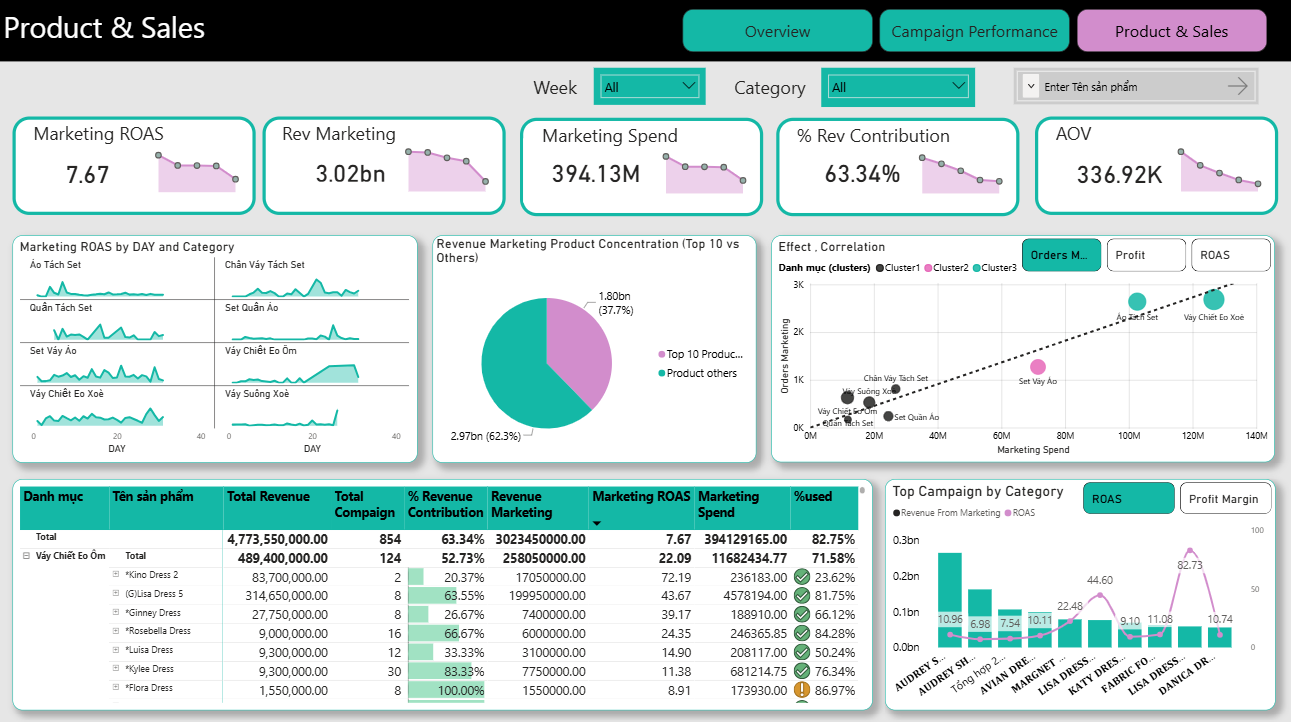

What the dashboard file says about the page in this screenshot:
{"tool":"powerbi","page":{"name":"Product & Sales ","canvas":[1920,1080],"ordinal":2},"visuals":[{"type":"textbox","box":[0,0,1920,93],"z":0},{"type":"textbox","box":[787.3,107.1,111.6,43.3],"z":0,"group":"g9"},{"type":"textbox","box":[1087.4,107.2,157.2,44.4],"z":0,"group":"g8"},{"type":"shape","box":[391.5,175.6,361.6,146.6],"z":0,"group":"g2"},{"type":"shape","box":[1539.1,175.6,361.6,146.6],"z":0,"group":"g5"},{"type":"group","id":"g1","title":"Group 1","box":[18.9,176.2,361.6,146.6],"z":0,"group":"g10"},{"type":"shape","box":[18.9,176.2,361.6,146.6],"z":0,"group":"g1"},{"type":"shape","box":[773,177.5,361.6,146.6],"z":0,"group":"g3"},{"type":"shape","box":[1153.9,177.5,361.6,146.6],"z":0,"group":"g4"},{"type":"scatterChart","title":"Effect , Correlation","fields":{"Y":["Measure.Orders From Marketing"],"Category":["danh sach san pham.Danh mục"],"Size":["Measure.Total Revenue"],"X":["Measure.Marketing Spend"],"Series":["danh sach san pham.Danh mục (clusters)"]},"box":[1147.3,351.6,749.2,337.9],"z":0,"group":"g6"},{"type":"lineStackedColumnComboChart","title":"Top Campaign by Category","fields":{"Y2":["Measure.Marketing ROAS"],"Y":["Measure.Revenue From Marketing"],"Category":["mkt_camp_cost.Tên chiến dịch"]},"box":[1315.6,713,580.6,343.8],"z":0,"group":"g7"},{"type":"textbox","box":[0,7,445.2,78.8],"z":1000},{"type":"slicer","fields":{"Values":["Dim_Date.Week"]},"box":[881.8,101.9,166.4,55.4],"z":1000,"group":"g9"},{"type":"slicer","fields":{"Values":["danh sach san pham.Danh mục"]},"box":[1221.8,101.9,229.1,58.6],"z":1000,"group":"g8"},{"type":"group","id":"g2","title":"Group 1","box":[391.5,175.6,361.4,147.3],"z":1000,"group":"g10"},{"type":"cardVisual","fields":{"Data":["Measure.Marketing ROAS"]},"box":[50.8,198.7,208.5,117.1],"z":1000,"group":"g1"},{"type":"cardVisual","fields":{"Data":["Measure.% Revenue Contribution"]},"box":[1177.3,199.3,220.4,113.3],"z":1000,"group":"g4"},{"type":"cardVisual","fields":{"Data":["Measure.AOV"]},"box":[1554.1,199.3,230.3,115.2],"z":1000,"group":"g5"},{"type":"cardVisual","fields":{"Data":["Measure.Marketing Spend"]},"box":[772.7,204.3,240.2,105.7],"z":1000,"group":"g3"},{"type":"cardVisual","fields":{"Data":["Measure.Revenue From Marketing"]},"box":[422.6,204.7,209.9,102.4],"z":1000,"group":"g2"},{"type":"advancedSlicerVisual","fields":{"Values":["Parameter_p33.Parameter_p33"]},"box":[1515.9,351.1,380,59.4],"z":1000,"group":"g6"},{"type":"advancedSlicerVisual","fields":{"Values":["Parameter_p3.Parameter_p3"]},"box":[1606.2,713.3,290.3,57.9],"z":1000,"group":"g7"},{"type":"group","id":"g3","title":"Group 1","box":[772.7,177.5,361.4,147.3],"z":2000,"group":"g10"},{"type":"lineChart","fields":{"Category":["Dim_Date.Week"],"Y":["Measure.Revenue From Marketing"]},"box":[591.8,209.2,147.6,84.3],"z":2000,"group":"g2"},{"type":"lineChart","fields":{"Category":["Dim_Date.Week"],"Y":["Measure.AOV"]},"box":[1739.4,209.2,147.6,84.3],"z":2000,"group":"g5"},{"type":"lineChart","fields":{"Category":["Dim_Date.Week"],"Y":["Measure.Marketing ROAS"]},"box":[219.2,209.8,147.6,84.3],"z":2000,"group":"g1"},{"type":"lineChart","fields":{"Category":["Dim_Date.Week"],"Y":["Measure.Marketing ROAS"]},"box":[973.3,211.1,147.6,84.3],"z":2000,"group":"g3"},{"type":"lineChart","fields":{"Category":["Dim_Date.Week"],"Y":["Measure.% Revenue Contribution"]},"box":[1354.2,211.1,147.6,84.3],"z":2000,"group":"g4"},{"type":"pieChart","title":"Revenue Marketing Product  Concentration (Top 10 vs Others)","fields":{"Y":["Measure.Top 10 Product Revenue","Measure.Product others"]},"box":[643.1,351.3,481.4,338.3],"z":2000},{"type":"textbox","box":[415,177.3,237.9,54.3],"z":3000,"group":"g2"},{"type":"textbox","box":[1565.8,177.3,234.1,54.3],"z":3000,"group":"g5"},{"type":"group","id":"g4","title":"Group 1","box":[1153.9,177.5,361.4,147.3],"z":3000,"group":"g10"},{"type":"textbox","box":[45.6,177.9,234.1,54.3],"z":3000,"group":"g1"},{"type":"textbox","box":[1179.3,178.7,266.1,54.7],"z":3000,"group":"g4"},{"type":"textbox","box":[799.7,179.2,234.1,54.3],"z":3000,"group":"g3"},{"type":"lineChart","title":"Marketing ROAS by DAY and Category","fields":{"Category":["Dim_Date.DAY","Dim_Date.Week"],"Y":["Measure.Marketing ROAS"],"Rows":["danh sach san pham.Danh mục"]},"box":[18.6,351.3,602.2,338.3],"z":3000},{"type":"group","id":"g5","title":"Group 1","box":[1539.1,175.6,361.6,146.6],"z":4000,"group":"g10"},{"type":"group","id":"g6","title":"Scatter","box":[1147.3,351.1,749.2,338.4],"z":4000},{"type":"pivotTable","fields":{"Rows":["danh sach san pham.Danh mục","danh sach san pham.Tên sản phẩm","danh sach san pham.Thương hiệu"],"Values":["Measure.Total Revenue","Measure.Total Compaign","Measure.% Revenue Contribution","Measure.Revenue From Marketing","Measure.Marketing ROAS","Measure.Marketing Spend","Measure.%used"]},"box":[18.1,713,1279.4,343.8],"z":5000},{"type":"group","id":"g7","title":"Top Campaign","box":[1315.6,713,580.9,343.8],"z":6000},{"type":"pageNavigator","box":[1015.5,14.7,871.7,64.5],"z":7000},{"type":"group","id":"g8","title":"Category","box":[1087.4,101.9,364.4,56.6],"z":8000},{"type":"group","id":"g9","title":"Week","box":[787.3,101.9,260.5,56.6],"z":9000},{"type":"group","id":"g10","title":"Group 2","box":[18.9,175.6,1882.2,149.1],"z":10000},{"type":"textSlicer","fields":{"Values":["danh sach san pham.Tên sản phẩm"]},"box":[1506.5,101.9,364.4,54.7],"z":11000}]}

Visuals, with their boxes in screenshot pixels (x1, y1, x2, y2), scaled from the page's 1920x1080 canvas onto the 1291x722 screenshot:
textbox: (x1=0, y1=0, x2=1290, y2=62)
textbox: (x1=529, y1=72, x2=604, y2=101)
textbox: (x1=731, y1=72, x2=837, y2=101)
shape: (x1=263, y1=117, x2=506, y2=215)
shape: (x1=1035, y1=117, x2=1278, y2=215)
"Group 1" group: (x1=13, y1=118, x2=256, y2=216)
shape: (x1=13, y1=118, x2=256, y2=216)
shape: (x1=520, y1=119, x2=763, y2=217)
shape: (x1=776, y1=119, x2=1019, y2=217)
"Effect , Correlation" scatterChart: (x1=771, y1=235, x2=1275, y2=461)
"Top Campaign by Category" lineStackedColumnComboChart: (x1=885, y1=477, x2=1275, y2=706)
textbox: (x1=0, y1=5, x2=299, y2=57)
slicer - Dim_Date.Week: (x1=593, y1=68, x2=705, y2=105)
slicer - danh sach san pham.Danh mục: (x1=822, y1=68, x2=976, y2=107)
"Group 1" group: (x1=263, y1=117, x2=506, y2=216)
cardVisual - Measure.Marketing ROAS: (x1=34, y1=133, x2=174, y2=211)
cardVisual - Measure.% Revenue Contribution: (x1=792, y1=133, x2=940, y2=209)
cardVisual - Measure.AOV: (x1=1045, y1=133, x2=1200, y2=210)
cardVisual - Measure.Marketing Spend: (x1=520, y1=137, x2=681, y2=207)
cardVisual - Measure.Revenue From Marketing: (x1=284, y1=137, x2=425, y2=205)
advancedSlicerVisual - Parameter_p33.Parameter_p33: (x1=1019, y1=235, x2=1275, y2=274)
advancedSlicerVisual - Parameter_p3.Parameter_p3: (x1=1080, y1=477, x2=1275, y2=516)
"Group 1" group: (x1=520, y1=119, x2=763, y2=217)
lineChart - Dim_Date.Week x Measure.Revenue From Marketing: (x1=398, y1=140, x2=497, y2=196)
lineChart - Dim_Date.Week x Measure.AOV: (x1=1170, y1=140, x2=1269, y2=196)
lineChart - Dim_Date.Week x Measure.Marketing ROAS: (x1=147, y1=140, x2=247, y2=197)
lineChart - Dim_Date.Week x Measure.Marketing ROAS: (x1=654, y1=141, x2=754, y2=197)
lineChart - Dim_Date.Week x Measure.% Revenue Contribution: (x1=911, y1=141, x2=1010, y2=197)
"Revenue Marketing Product  Concentration (Top 10 vs Others)" pieChart: (x1=432, y1=235, x2=756, y2=461)
textbox: (x1=279, y1=119, x2=439, y2=155)
textbox: (x1=1053, y1=119, x2=1210, y2=155)
"Group 1" group: (x1=776, y1=119, x2=1019, y2=217)
textbox: (x1=31, y1=119, x2=188, y2=155)
textbox: (x1=793, y1=119, x2=972, y2=156)
textbox: (x1=538, y1=120, x2=695, y2=156)
"Marketing ROAS by DAY and Category" lineChart: (x1=13, y1=235, x2=417, y2=461)
"Group 1" group: (x1=1035, y1=117, x2=1278, y2=215)
"Scatter" group: (x1=771, y1=235, x2=1275, y2=461)
pivotTable - danh sach san pham.Danh mục x danh sach san pham.Tên sản phẩm: (x1=12, y1=477, x2=872, y2=706)
"Top Campaign" group: (x1=885, y1=477, x2=1275, y2=706)
pageNavigator: (x1=683, y1=10, x2=1269, y2=53)
"Category" group: (x1=731, y1=68, x2=976, y2=106)
"Week" group: (x1=529, y1=68, x2=705, y2=106)
"Group 2" group: (x1=13, y1=117, x2=1278, y2=217)
textSlicer - danh sach san pham.Tên sản phẩm: (x1=1013, y1=68, x2=1258, y2=105)
